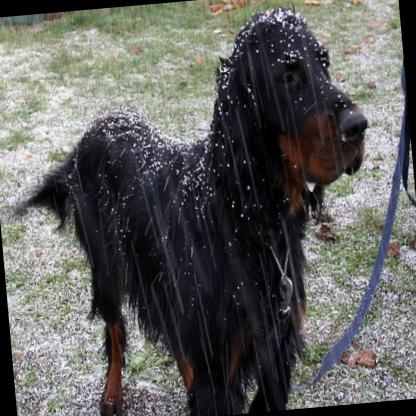Gordon_setter: (0, 0, 391, 416)
